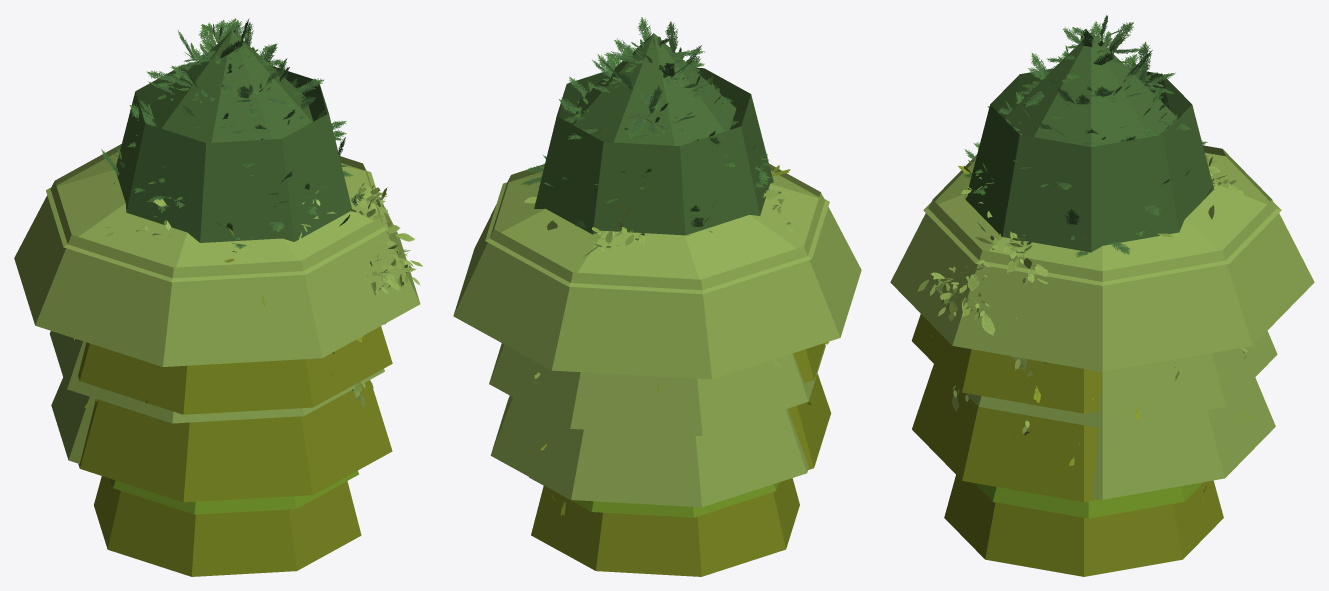
Rendered from woods.glb.
3 renders of one model, left to right at view 1: azimuth 30°, elevation 25°; view 2: azimuth 150°, elevation 25°; view 3: azimuth 270°, elevation 25°, orthographic.
Visible parts, largest first — view 1: birch-3-leaf, willow-3-leaf, fir-3-leaf, fir-2-leaf, maple-3-leaf, fir-1-leaf, birch-2-leaf, birch-0-leaf, fir-0-leaf, birch-1-leaf; view 2: birch-3-leaf, fir-3-leaf, willow-3-leaf, fir-2-leaf, maple-3-leaf, fir-1-leaf, fir-0-leaf, birch-2-leaf; view 3: birch-3-leaf, willow-3-leaf, fir-3-leaf, fir-2-leaf, maple-3-leaf, birch-2-leaf, birch-1-leaf, fir-1-leaf, birch-0-leaf, fir-0-leaf.
Boxes of the visible parts, x1=… form: birch-3-leaf: x1=14, y1=144, x2=420, y2=463; willow-3-leaf: x1=78, y1=326, x2=392, y2=576; fir-3-leaf: x1=116, y1=31, x2=351, y2=242; fir-2-leaf: x1=101, y1=18, x2=364, y2=248; maple-3-leaf: x1=110, y1=470, x2=358, y2=514; fir-1-leaf: x1=109, y1=22, x2=352, y2=232; birch-2-leaf: x1=74, y1=186, x2=422, y2=406; birch-0-leaf: x1=105, y1=182, x2=417, y2=400; fir-0-leaf: x1=112, y1=24, x2=347, y2=240; birch-1-leaf: x1=105, y1=187, x2=420, y2=399; birch-3-leaf: x1=453, y1=164, x2=861, y2=507; fir-3-leaf: x1=534, y1=33, x2=773, y2=235; willow-3-leaf: x1=531, y1=343, x2=831, y2=576; fir-2-leaf: x1=519, y1=17, x2=781, y2=245; maple-3-leaf: x1=529, y1=477, x2=778, y2=517; fir-1-leaf: x1=534, y1=31, x2=769, y2=226; fir-0-leaf: x1=545, y1=36, x2=763, y2=232; birch-2-leaf: x1=524, y1=163, x2=786, y2=366; birch-3-leaf: x1=890, y1=145, x2=1314, y2=499; willow-3-leaf: x1=911, y1=314, x2=1223, y2=576; fir-3-leaf: x1=965, y1=32, x2=1214, y2=252; fir-2-leaf: x1=963, y1=21, x2=1219, y2=257; maple-3-leaf: x1=974, y1=482, x2=1203, y2=518; birch-2-leaf: x1=918, y1=166, x2=1245, y2=440; birch-1-leaf: x1=923, y1=155, x2=1247, y2=434; fir-1-leaf: x1=968, y1=15, x2=1181, y2=246; birch-0-leaf: x1=929, y1=159, x2=1246, y2=432; fir-0-leaf: x1=972, y1=20, x2=1180, y2=239.
Bounding box in the file's own units: 16.63 × 21.77 × 16.63.
Materials: 28 (14 with a texture image).
